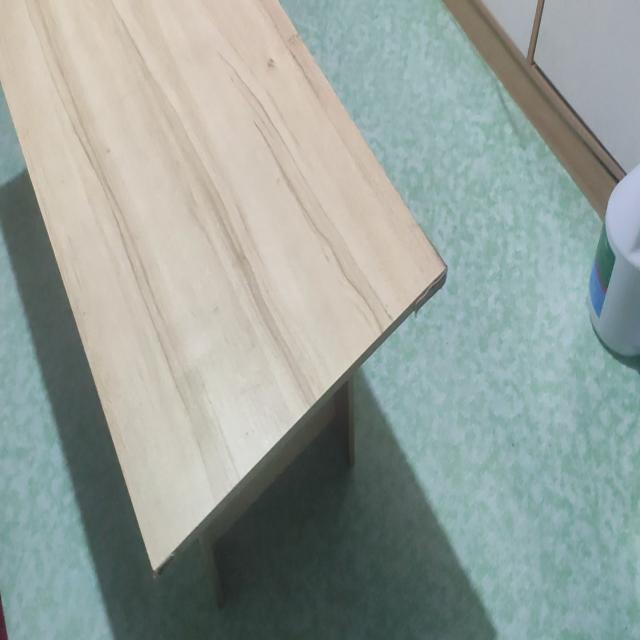table: (0, 0, 448, 615)
